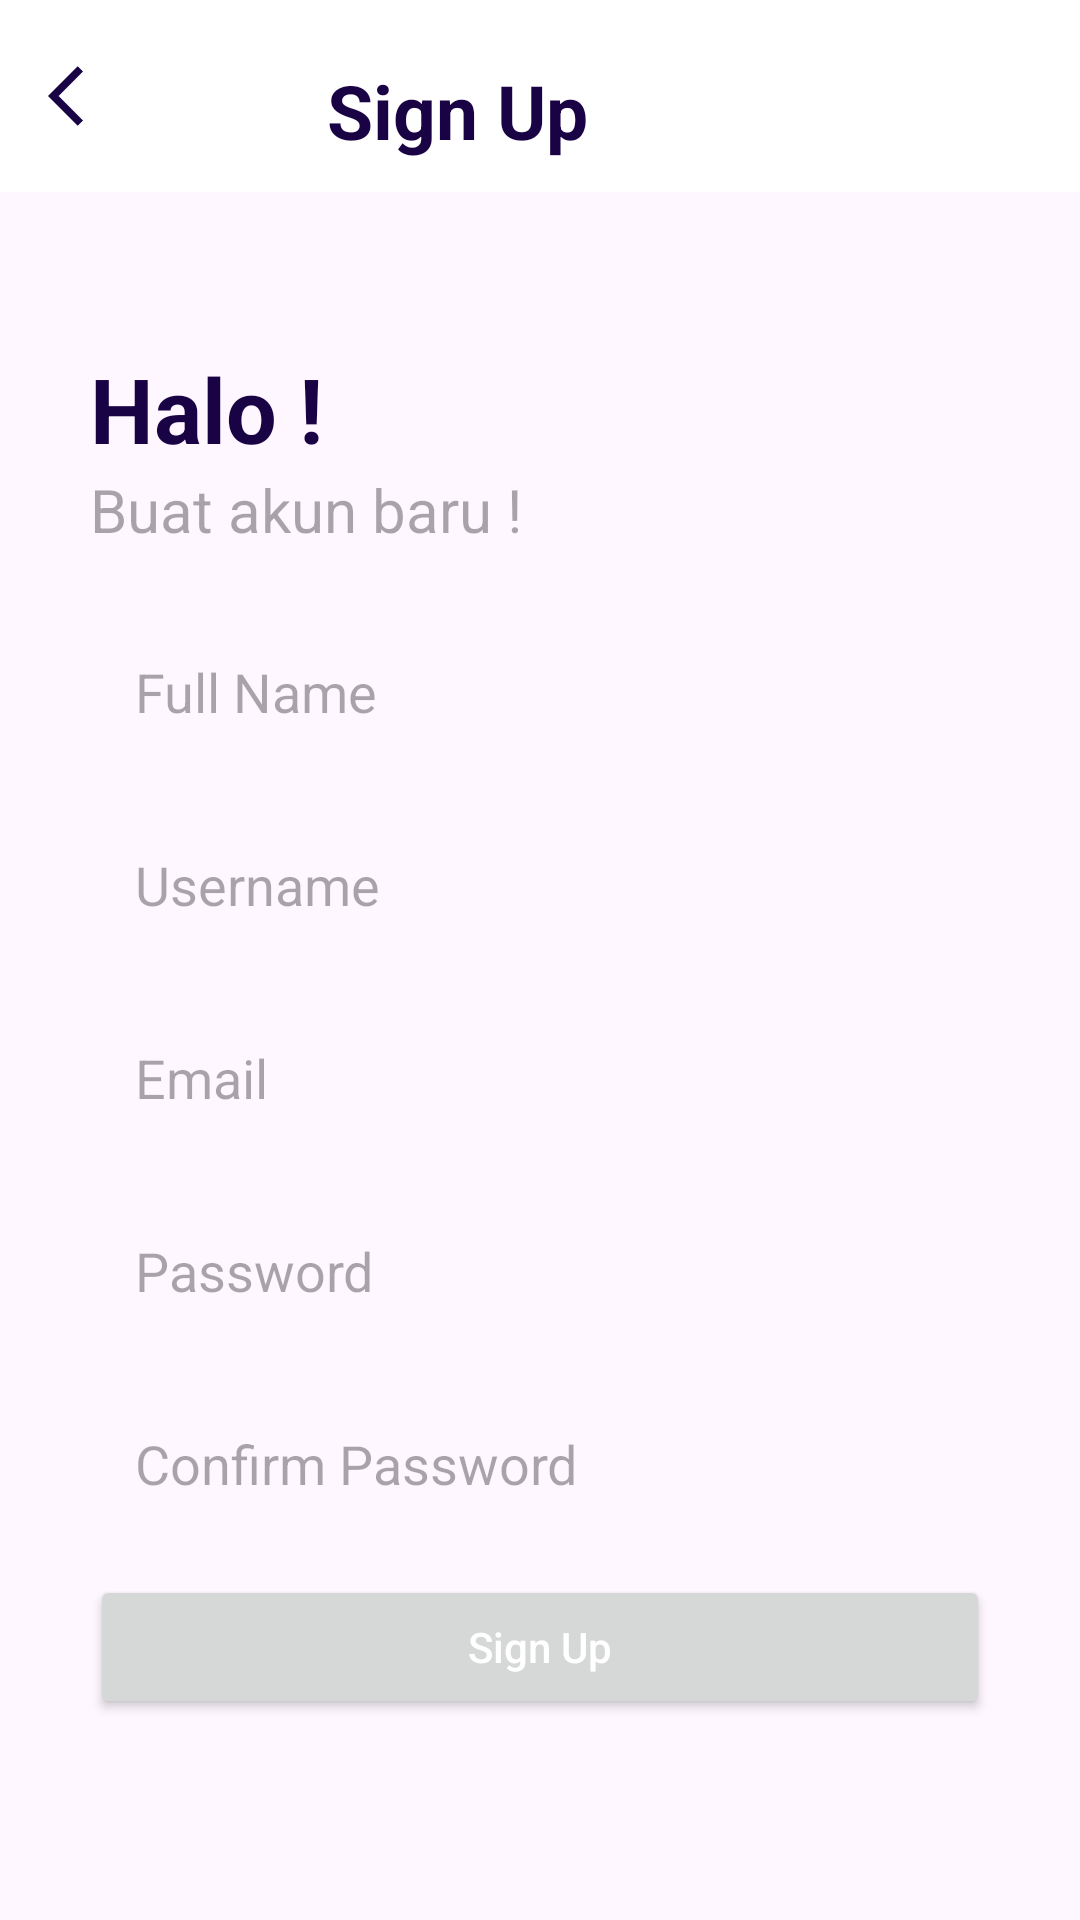

Icons on this 1080*1920 Android screen, each with its box as (x1, y1, x2, y2):
arrow back: (48, 66, 83, 126)
